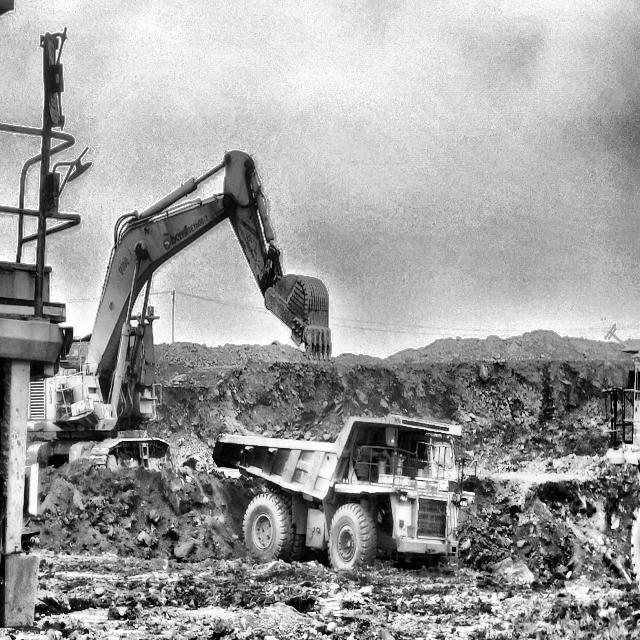dump_truck: (205, 405, 471, 573)
excavator: (44, 152, 332, 469)
